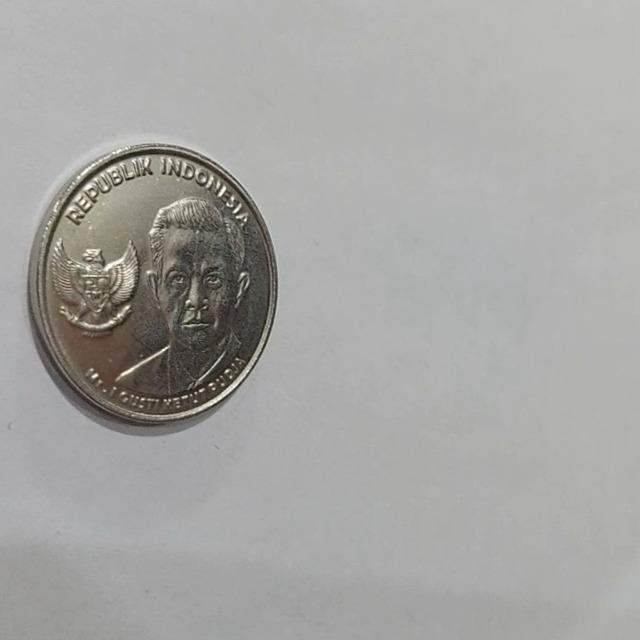Rp100: (28, 141, 279, 427), (110, 194, 253, 397)
